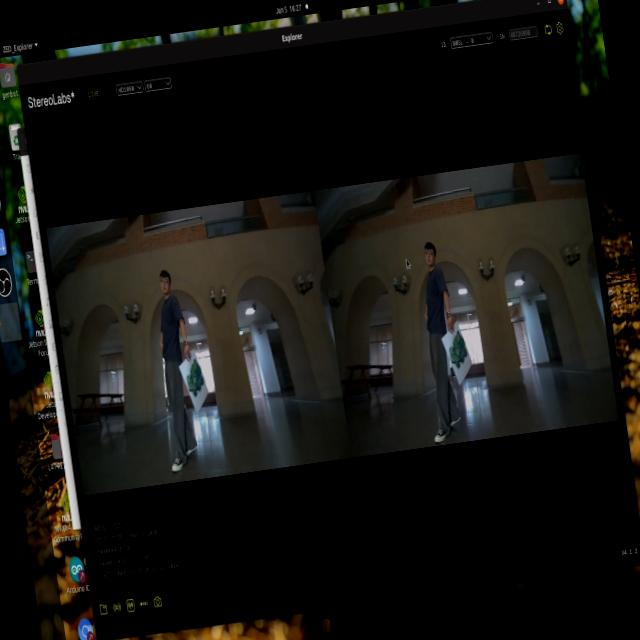green: (444, 327, 478, 384), (182, 356, 218, 406)
